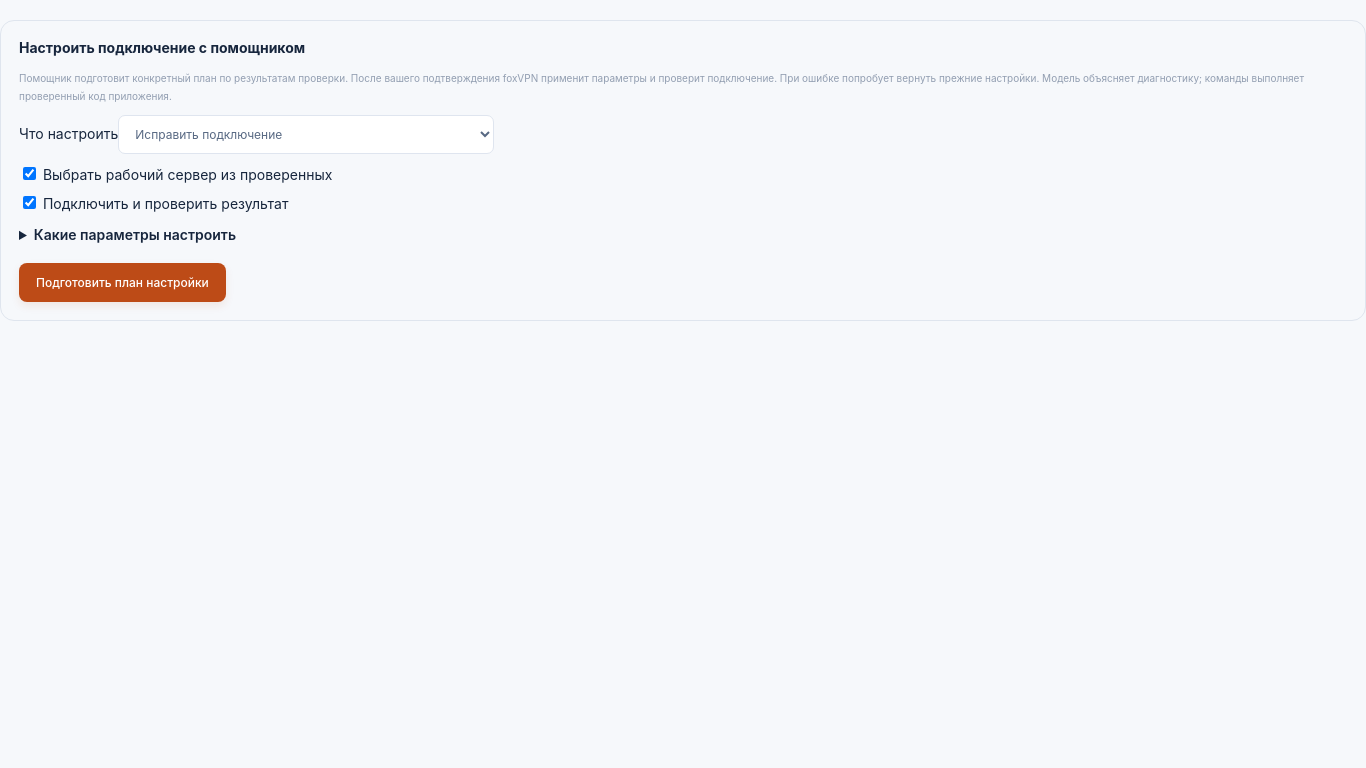
Test: blockers disable application and stale report clears the prepared plan
Click the button "Подготовить план настройки": coordinates (122, 282) left=19, top=263, right=226, bottom=302
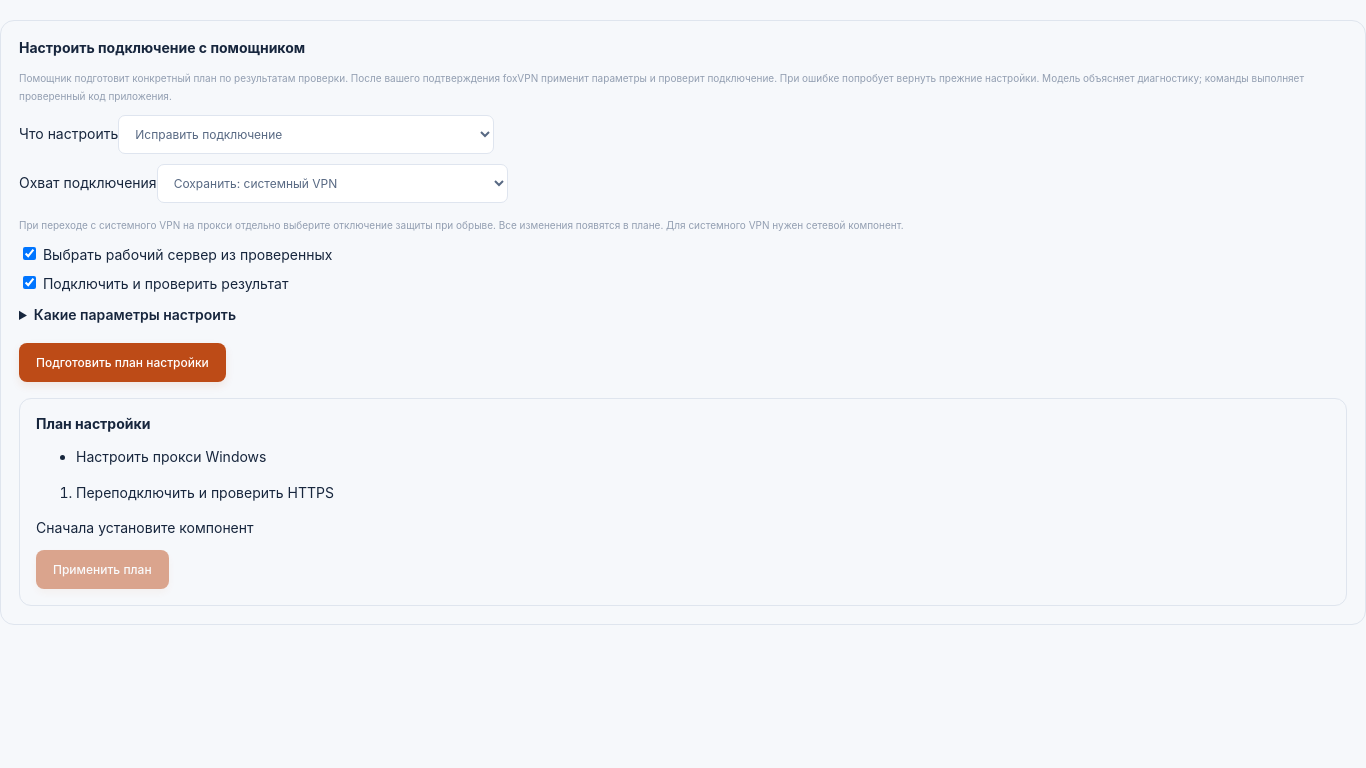
expect the text "План настройки" is shown: met, box left=36, top=415, right=150, bottom=432
expect the button "Применить план" is disabled: met, box left=36, top=550, right=169, bottom=589
